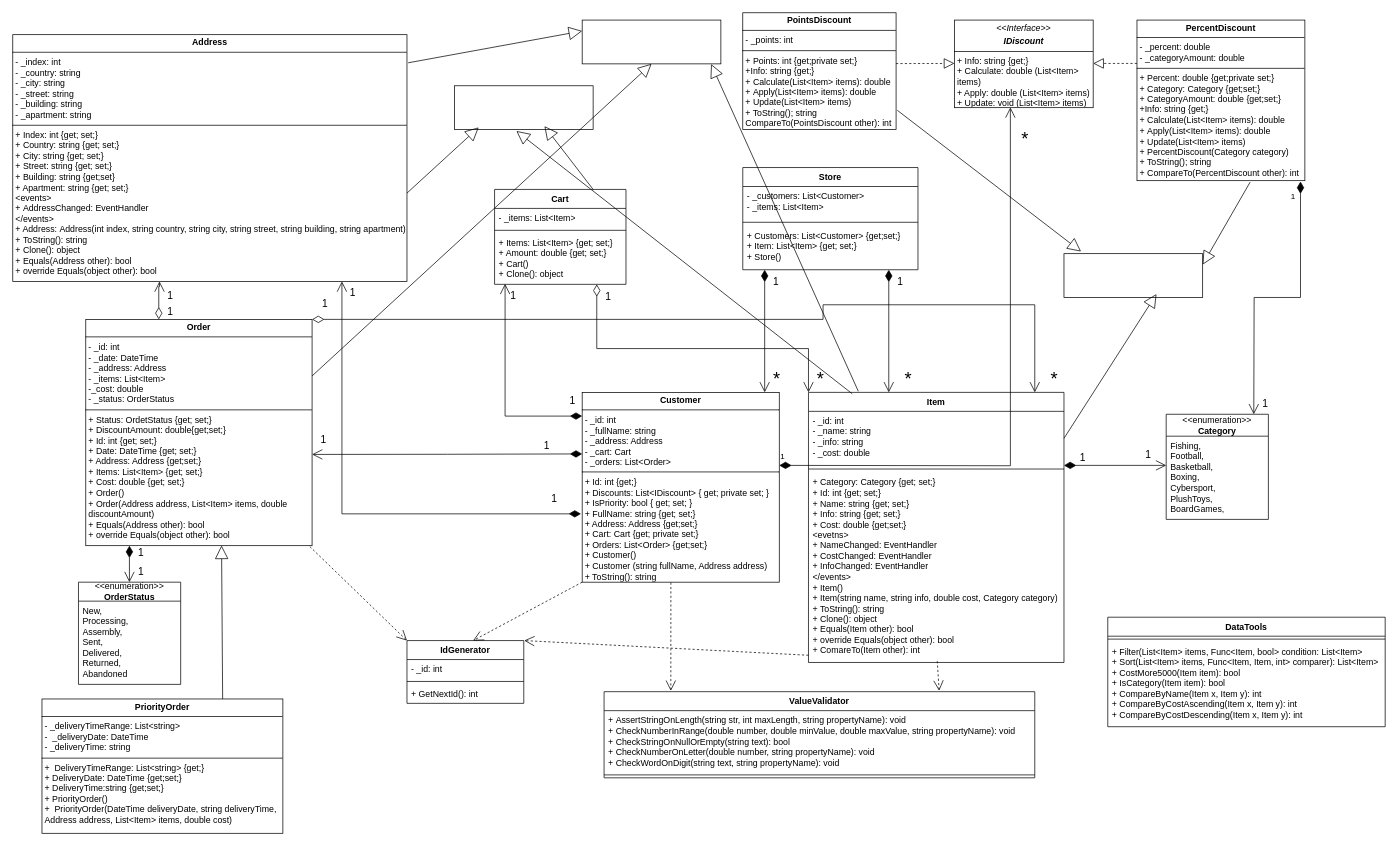
Image size: 1398x846. Some labels were removed from this diagram. The shapes that lost their labels are listed below. From the top down, each one's centre as x and y in pixels, then its label:
(651,41): <<Interface>> IEquatable + Equals(T): bool
(523,107): <<Interface>> ICloneable + Clone(): object
(1133,275): <<Interface>> IComparable + Compare(T): int
